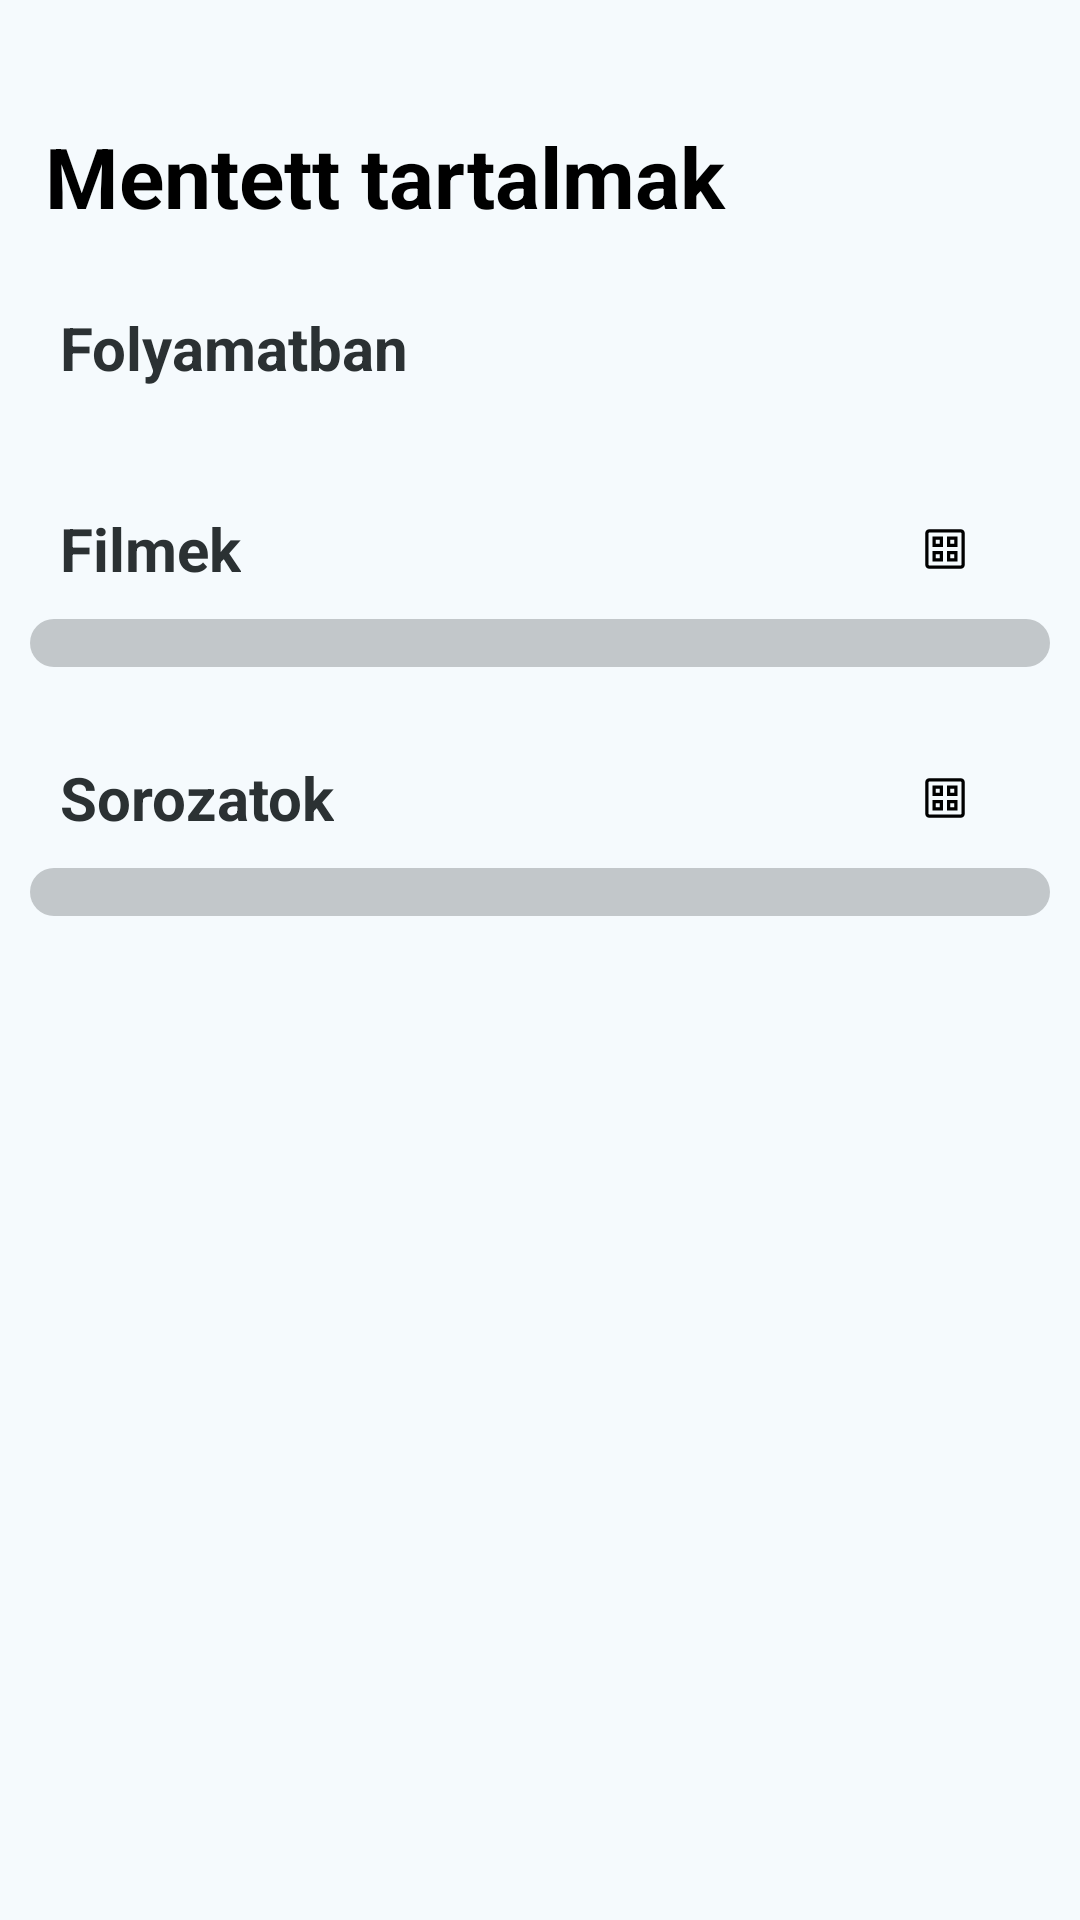

Where icons sit on this 1080w x 1920h app screen, as (x1, y1, x2, y2):
cardview: (925, 529, 965, 569), (925, 778, 965, 818)
